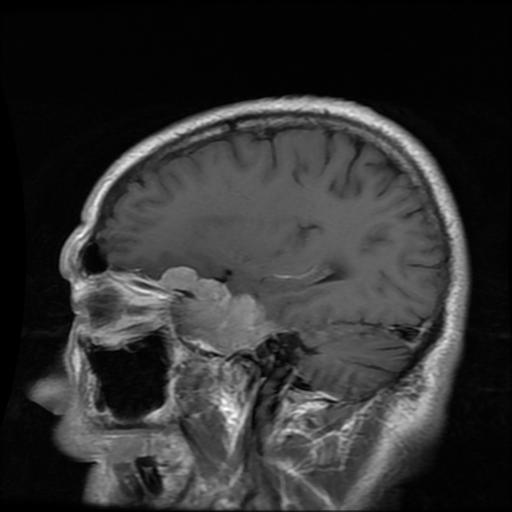Menigiomia_tumour: (160, 264, 273, 350)
